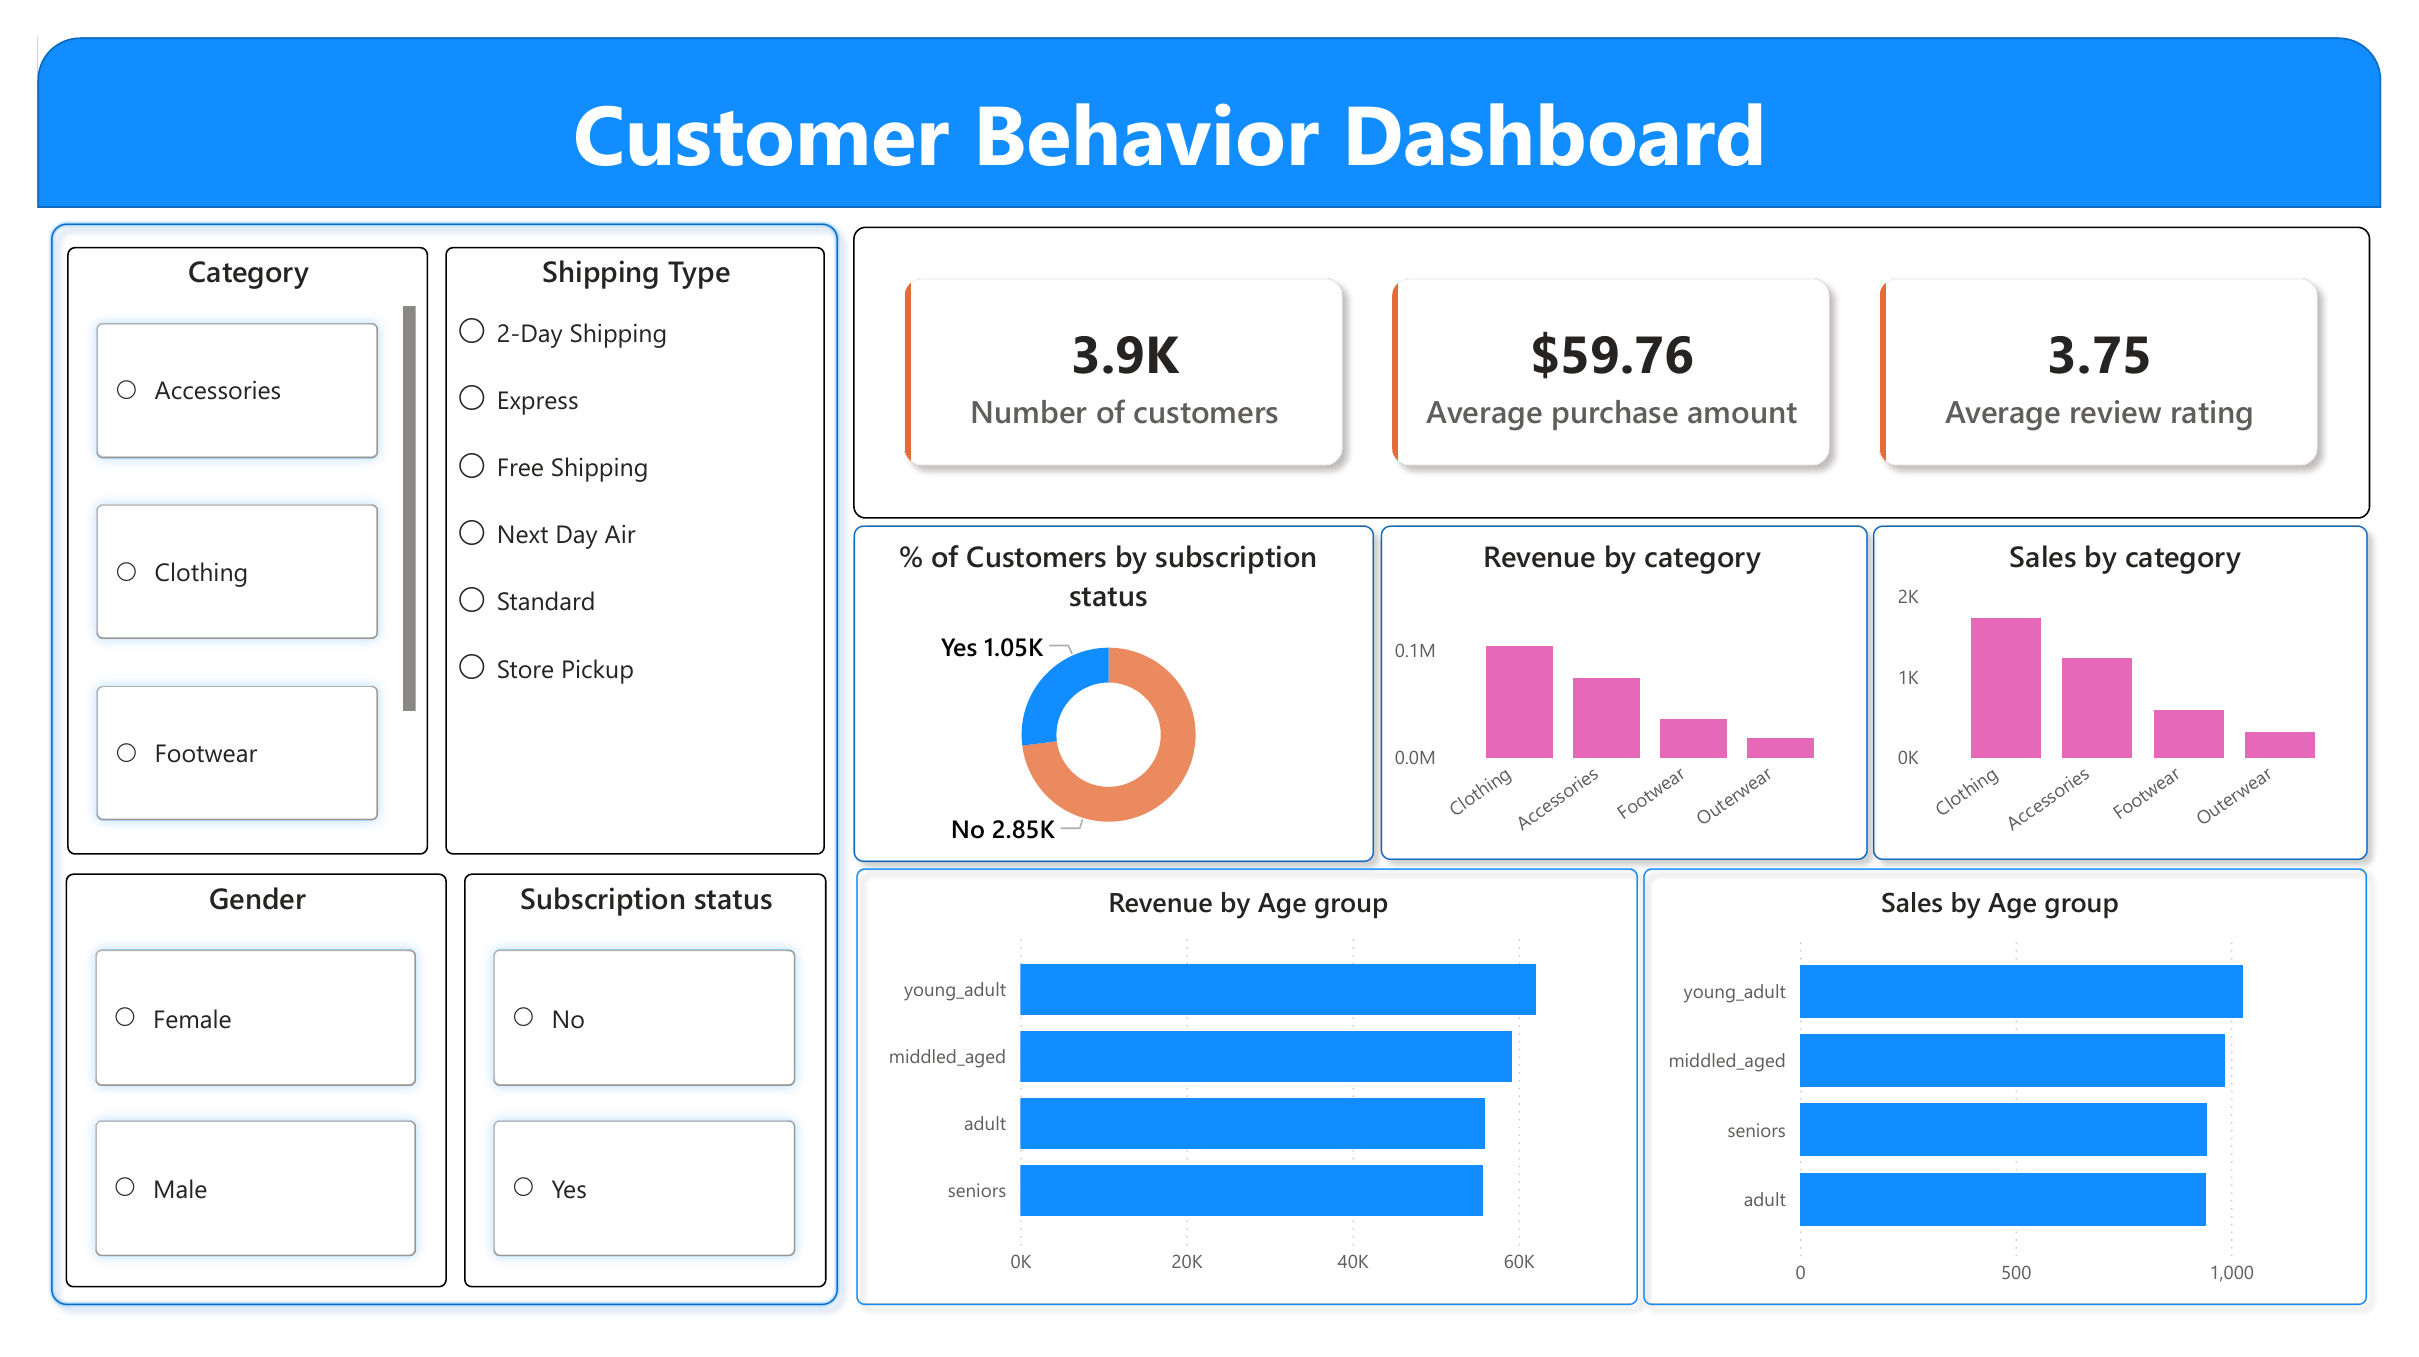

Layout of this report page (visuals, bound fields, positions):
{"tool":"powerbi","page":{"name":"Page 1","canvas":[1500,820],"ordinal":0},"visuals":[{"type":"cardVisual","fields":{"Data":["public customer.Number of customers","public customer.Average purchase amount","public customer.Average review rating"]},"box":[521.7,120.8,970.8,186.7],"z":0},{"type":"shape","box":[0,0,1500.3,109.3],"z":1000},{"type":"textbox","box":[337.7,19.3,903.7,141.5],"z":2000},{"type":"shape","box":[514.5,304.3,349.3,231.9],"z":3000},{"type":"donutChart","title":"% of Customers by subscription status","fields":{"Category":["public customer.subscription_status"],"Y":["CountNonNull(public customer.customer_id)"]},"box":[535,319.2,300.8,203.3],"z":4000},{"type":"shape","box":[1165.8,304.2,334.2,230.8],"z":5000},{"type":"shape","box":[850.8,304.2,329.2,230.8],"z":6000},{"type":"clusteredColumnChart","title":"Revenue by category","fields":{"Y":["Sum(public customer.purchase_amount)"],"Category":["public customer.category"]},"box":[863.3,319.2,302.5,203.3],"z":7000},{"type":"clusteredColumnChart","title":"Sales by category","fields":{"Category":["public customer.category"],"Y":["CountNonNull(public customer.customer_id)"]},"box":[1185,319.2,302.5,203.3],"z":8000},{"type":"shape","box":[0,110,521.4,710],"z":9000},{"type":"advancedSlicerVisual","title":"Subscription status","fields":{"Values":["public customer.subscription_status"]},"box":[273.3,535,231.7,265],"z":10000},{"type":"advancedSlicerVisual","title":"Gender","fields":{"Values":["public customer.gender"]},"box":[18.3,535,243.3,265],"z":11000},{"type":"advancedSlicerVisual","title":"Category","fields":{"Values":["public customer.category"]},"box":[18.8,133.8,231.2,388.8],"z":12000},{"type":"listSlicer","title":"Shipping Type","fields":{"Values":["public customer.shipping_type"]},"box":[261.2,133.8,242.5,388.8],"z":13000},{"type":"shape","box":[515,522.5,517.5,297.5],"z":14000},{"type":"clusteredBarChart","title":"Revenue by Age group","fields":{"Y":["Sum(public customer.purchase_amount)"],"Category":["public customer.age_group"]},"box":[534.2,540.8,481.7,260.8],"z":15000},{"type":"shape","box":[1019.2,522.5,480.8,297.5],"z":16000},{"type":"clusteredBarChart","title":"Sales by Age group","fields":{"Y":["CountNonNull(public customer.customer_id)"],"Category":["public customer.age_group"]},"box":[1032.5,540.8,446.7,268.3],"z":17000}]}

Visuals, with their boxes in screenshot pixels (x1, y1, x2, y2):
cardVisual - public customer.Number of customers x public customer.Average purchase amount: BBox(849, 217, 2393, 514)
shape: BBox(19, 25, 2405, 199)
textbox: BBox(556, 56, 1993, 281)
shape: BBox(837, 509, 1393, 878)
"% of Customers by subscription status" donutChart: BBox(870, 533, 1348, 856)
shape: BBox(1873, 509, 2404, 876)
shape: BBox(1372, 509, 1896, 876)
"Revenue by category" clusteredColumnChart: BBox(1392, 533, 1873, 856)
"Sales by category" clusteredColumnChart: BBox(1903, 533, 2385, 856)
shape: BBox(19, 200, 848, 1329)
"Subscription status" advancedSlicerVisual: BBox(454, 876, 822, 1297)
"Gender" advancedSlicerVisual: BBox(48, 876, 435, 1297)
"Category" advancedSlicerVisual: BBox(49, 238, 416, 856)
"Shipping Type" listSlicer: BBox(434, 238, 820, 856)
shape: BBox(838, 856, 1661, 1329)
"Revenue by Age group" clusteredBarChart: BBox(868, 885, 1635, 1300)
shape: BBox(1640, 856, 2404, 1329)
"Sales by Age group" clusteredBarChart: BBox(1661, 885, 2371, 1312)
